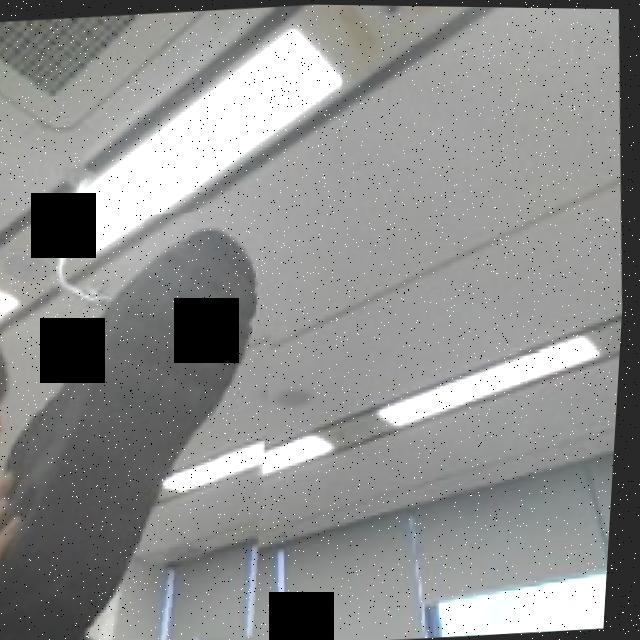shoe: (0, 203, 312, 640)
